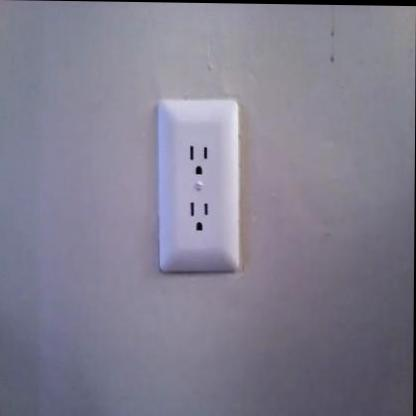OUTLET: (159, 98, 239, 272)
